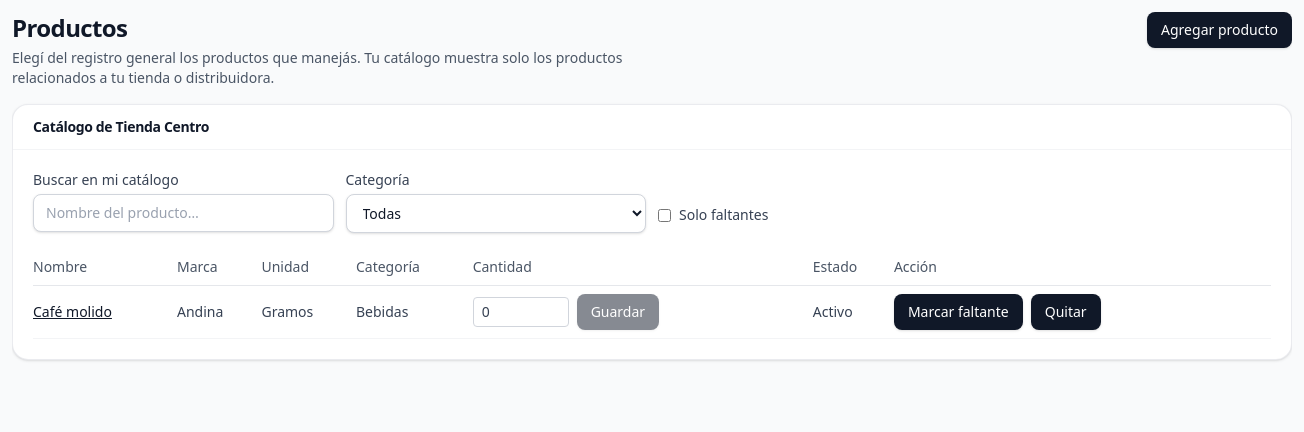
Test: ProductsPage (0019 · catálogo por entidad) › S4: la cantidad se edita y se guarda sin movimiento
This screenshot has width=1304, height=432.
Replace the text in the number field named "Cantidad de Café molido" with "5" at (521, 312), box x1=473 y1=297 x2=569 y2=327
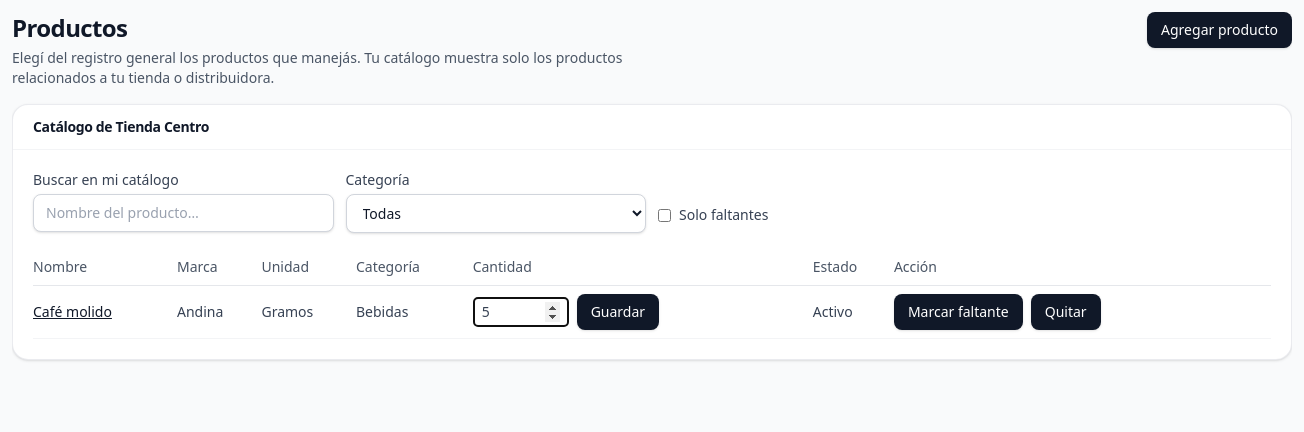
Click the button "Guardar" at (618, 312), box x1=577 y1=294 x2=659 y2=330
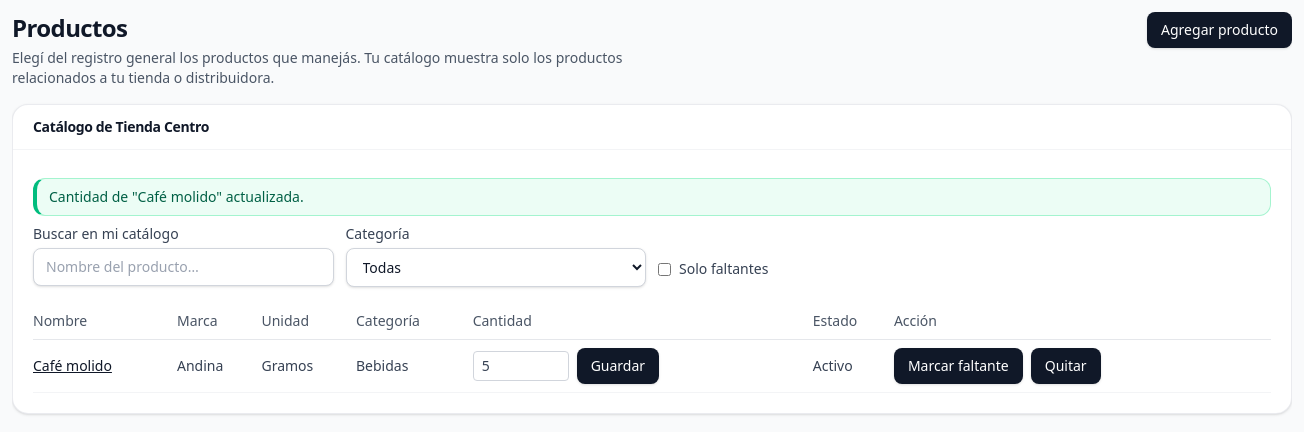
Now the text "Cantidad de \"Café molido\" actualizada." is shown, box x1=33 y1=178 x2=1271 y2=216
